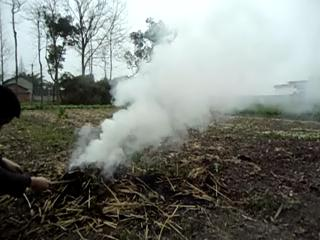yanwu: (79, 23, 286, 167)
